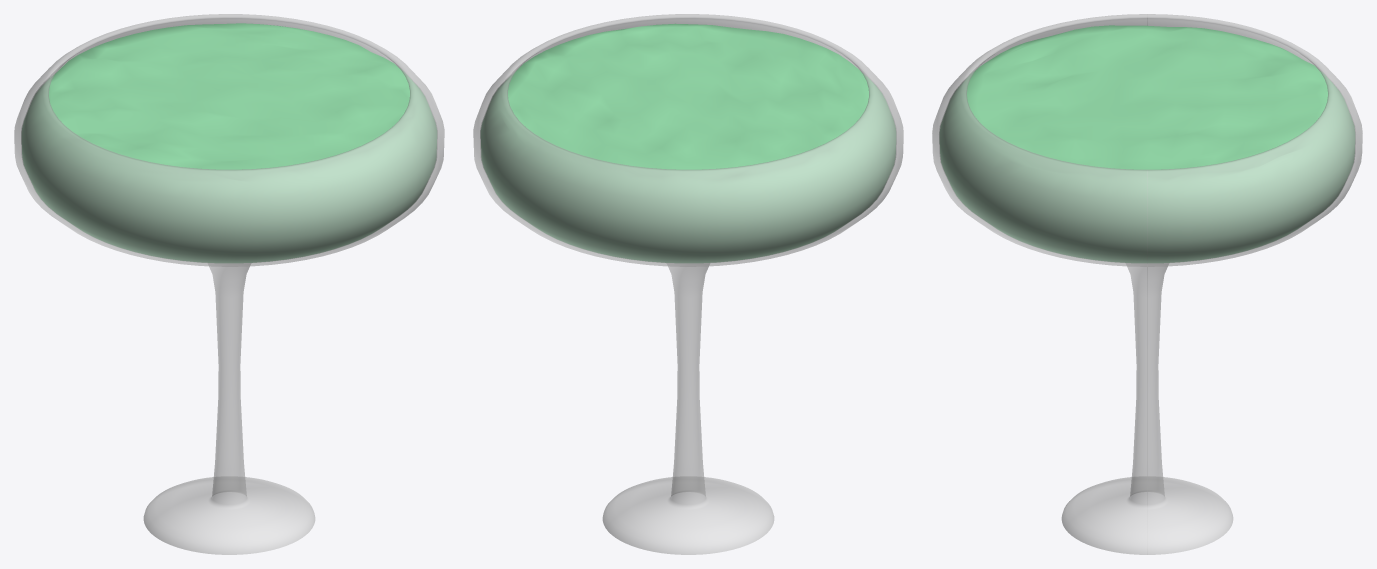
The model's file is Margarita1.glb.
The picture shows the model from 3 angles, left to right: view 1: azimuth 30°, elevation 25°; view 2: azimuth 150°, elevation 25°; view 3: azimuth 270°, elevation 25°; orthographic projection.
Parts seen in each view (by area): view 1: Liquid_Coupe, Coupe.001; view 2: Liquid_Coupe, Coupe.001; view 3: Liquid_Coupe, Coupe.001.
Part boxes in pixels (left/top/right/bottom): Liquid_Coupe: left=22, top=23, right=436, bottom=262; Coupe.001: left=14, top=14, right=444, bottom=554; Liquid_Coupe: left=481, top=23, right=895, bottom=262; Coupe.001: left=473, top=14, right=903, bottom=554; Liquid_Coupe: left=940, top=25, right=1354, bottom=262; Coupe.001: left=932, top=14, right=1362, bottom=554.
Bounding box in the file's own units: 0.1679 × 0.1834 × 0.1679.
